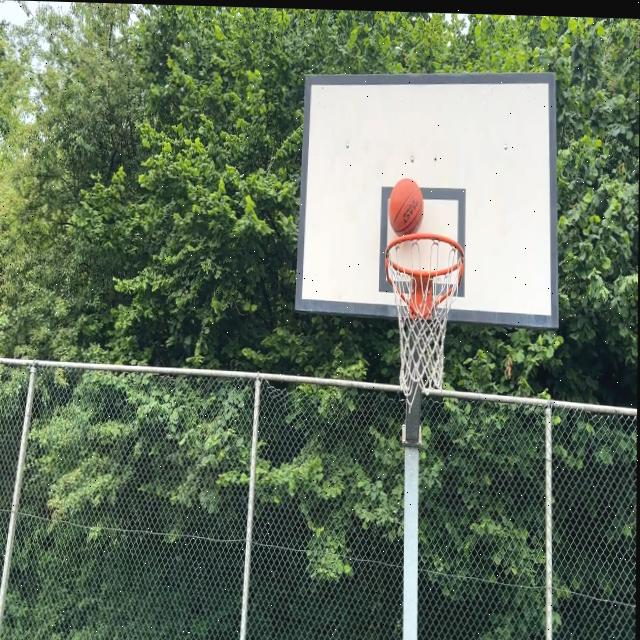rebound_hit: (388, 175, 426, 243)
